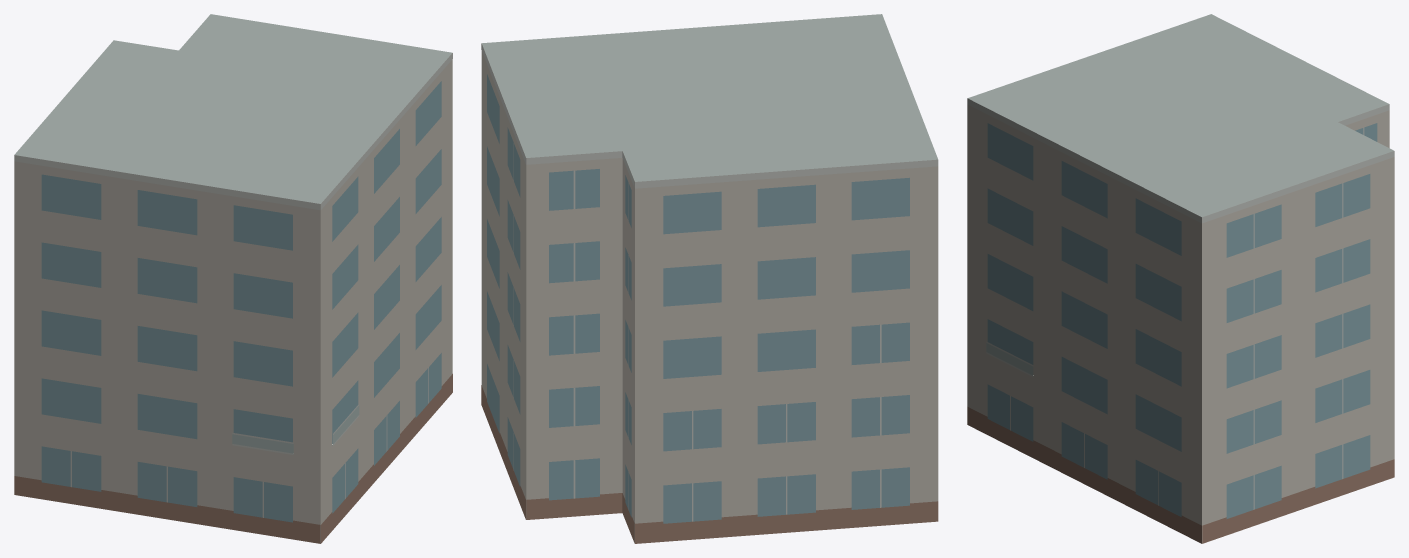
The model's file is survey-upis-32831054.glb.
The picture shows the model from 3 angles, left to right: view 1: azimuth 30°, elevation 25°; view 2: azimuth 150°, elevation 25°; view 3: azimuth 270°, elevation 25°; orthographic projection. The views are drawn at different scales.
Visible parts, largest first — view 1: survey-upis-32831054.tmp; view 2: survey-upis-32831054.tmp; view 3: survey-upis-32831054.tmp.
Boxes of the visible parts, left/top/right/bottom form: survey-upis-32831054.tmp: left=14, top=14, right=452, bottom=543; survey-upis-32831054.tmp: left=481, top=14, right=938, bottom=543; survey-upis-32831054.tmp: left=967, top=14, right=1394, bottom=543.
Size of the model in its own units: 17.5 by 13.1 by 15.54.
